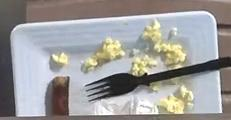sausage: (46, 77, 69, 116)
scrambled_eggs: (127, 21, 186, 76), (81, 38, 127, 73), (158, 85, 194, 114)
